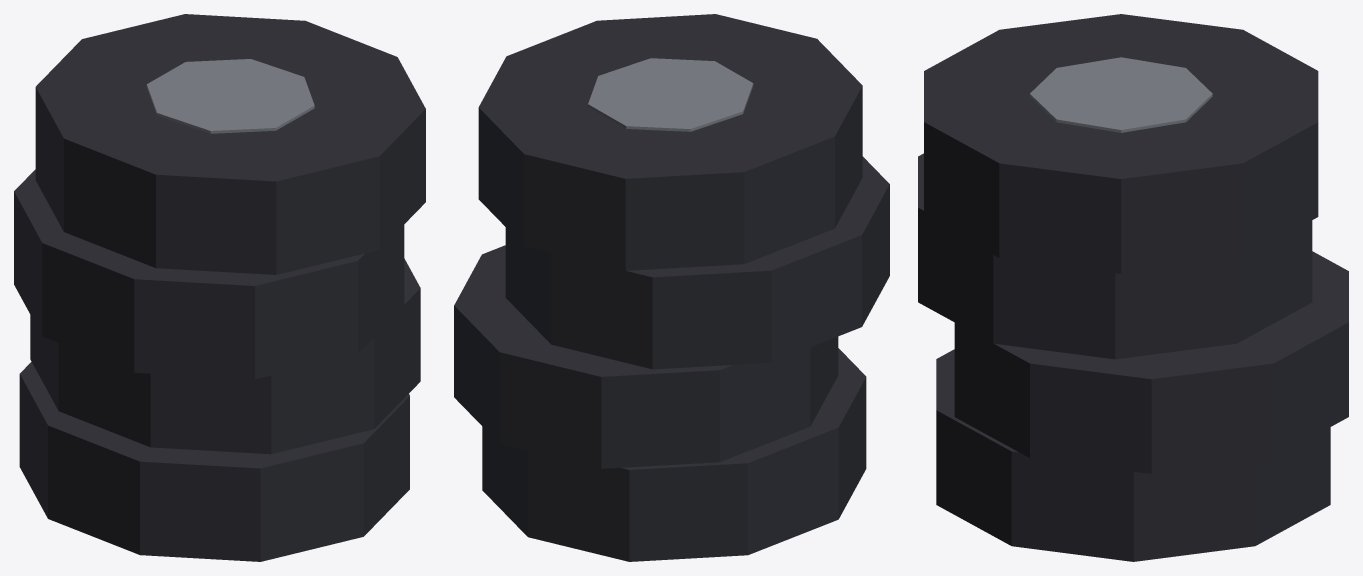
File: env_r7_tire_stack.glb
3 views of the same model, side by side, from view 1: azimuth 30°, elevation 25°; view 2: azimuth 150°, elevation 25°; view 3: azimuth 270°, elevation 25° (orthographic). The views are drawn at different scales.
Parts seen in each view (by area): view 1: env_r7_tire_stack; view 2: env_r7_tire_stack; view 3: env_r7_tire_stack.
Boxes of the visible parts, <box> form: env_r7_tire_stack: <box>14,14,425,561</box>; env_r7_tire_stack: <box>454,14,889,561</box>; env_r7_tire_stack: <box>918,14,1348,561</box>.
Bounding box in the file's own units: 1.4 × 1.4 × 1.4.
1 material, 1 textured.
